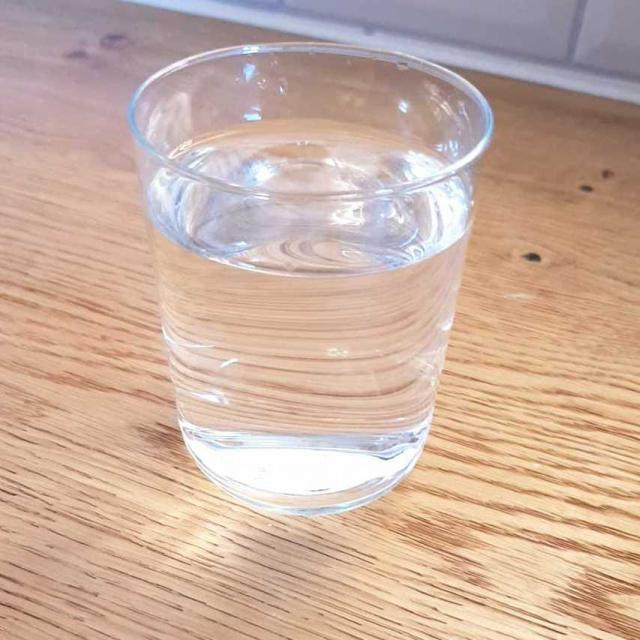water: (149, 117, 481, 524)
